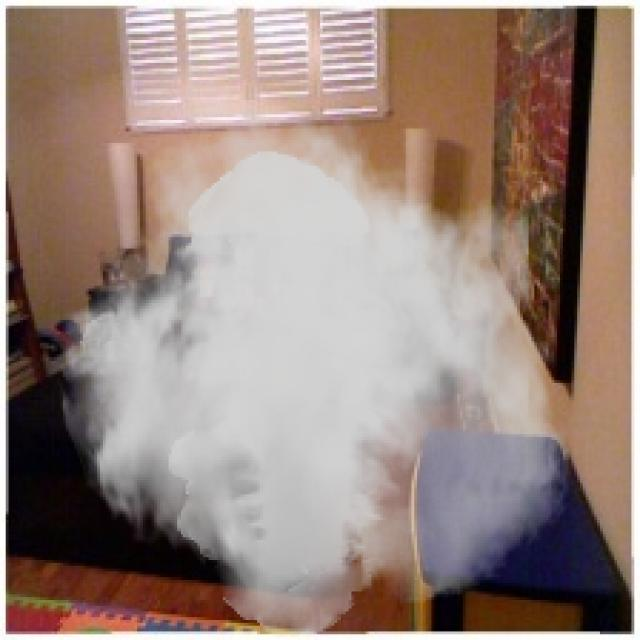smoke: (54, 97, 574, 637)
